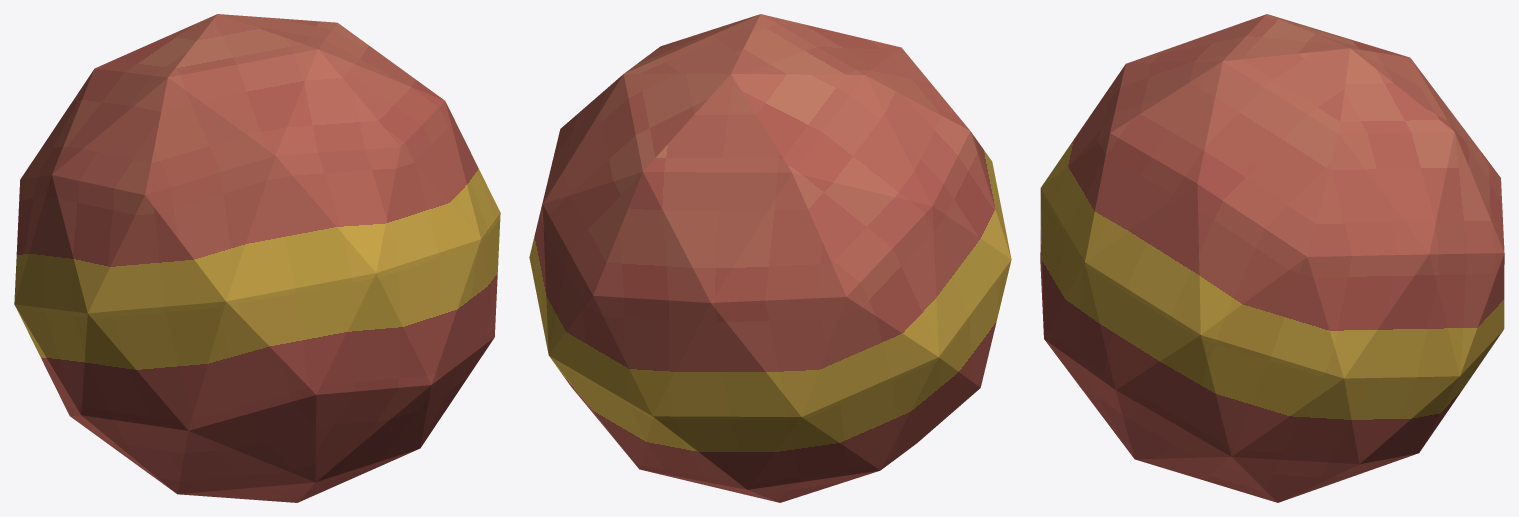
The model's file is Seeker_Ball.fbx.
3 views of the same model, side by side, from view 1: azimuth 30°, elevation 25°; view 2: azimuth 150°, elevation 25°; view 3: azimuth 270°, elevation 25° (orthographic). The views are drawn at different scales.
Visible parts, largest first — view 1: Icosphere; view 2: Icosphere; view 3: Icosphere.
Part boxes in pixels (box(x1,y1,x2,y2)): Icosphere: box(14, 14, 500, 502); Icosphere: box(529, 14, 1011, 502); Icosphere: box(1040, 14, 1504, 502).
Size of the model in its own units: 190 by 193 by 190.
